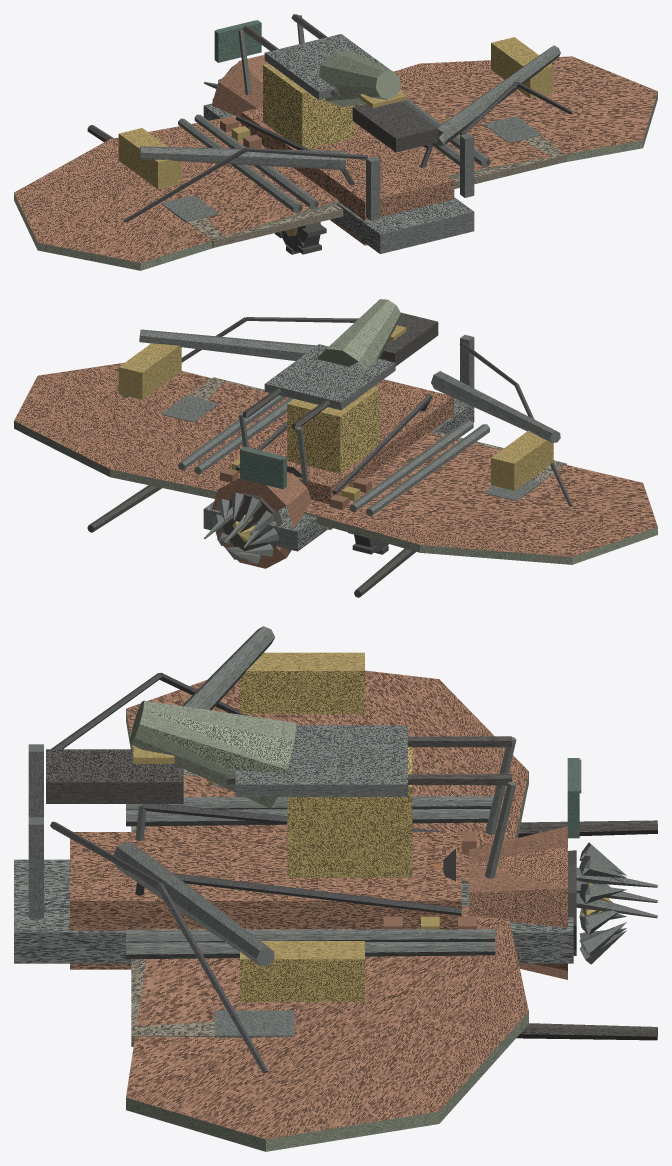
The model's file is penitent_censer.glb.
3 renders of one model, top to bottom at view 1: azimuth 30°, elevation 25°; view 2: azimuth 150°, elevation 25°; view 3: azimuth 270°, elevation 25°, orthographic. The views are drawn at different scales.
Visible parts, largest first — view 1: penitent_censer; view 2: penitent_censer; view 3: penitent_censer.
Part boxes in pixels (x1,y1,x2,y2): penitent_censer: (14, 14, 657, 270); penitent_censer: (14, 299, 657, 597); penitent_censer: (14, 626, 657, 1151).
Bounding box in the file's own units: 13.2 × 4.18 × 7.48.
9 materials, 9 textured.
